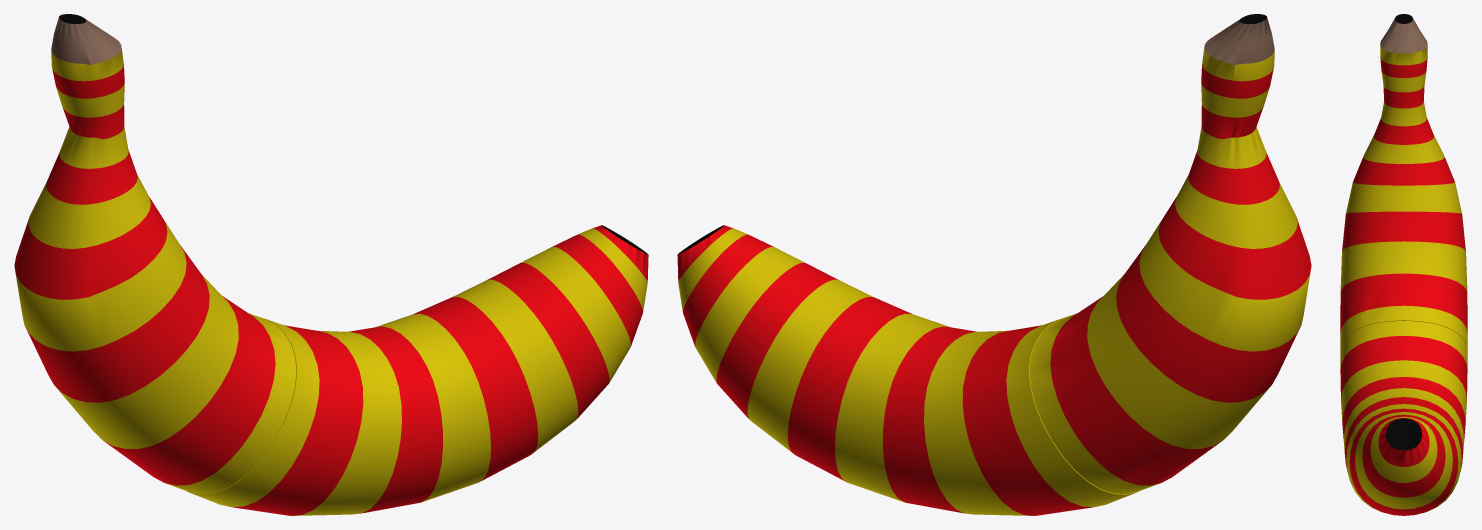
File: Fruit_Banana_Sliced_Frenzy.fbx
The picture shows the model from 3 angles, left to right: view 1: azimuth 30°, elevation 25°; view 2: azimuth 150°, elevation 25°; view 3: azimuth 270°, elevation 25°; orthographic projection. The views are drawn at different scales.
Parts seen in each view (by area): view 1: Bottom, Top; view 2: Bottom, Top; view 3: Top, Bottom.
Boxes of the visible parts, box(x1,y1,x2,y2) form: Bottom: box(187, 225, 648, 515); Top: box(14, 14, 296, 493); Bottom: box(677, 225, 1138, 515); Top: box(1029, 14, 1311, 493); Top: box(1340, 14, 1467, 349); Bottom: box(1340, 321, 1467, 515).
Size of the model in its own units: 263 by 227 by 70.72.
